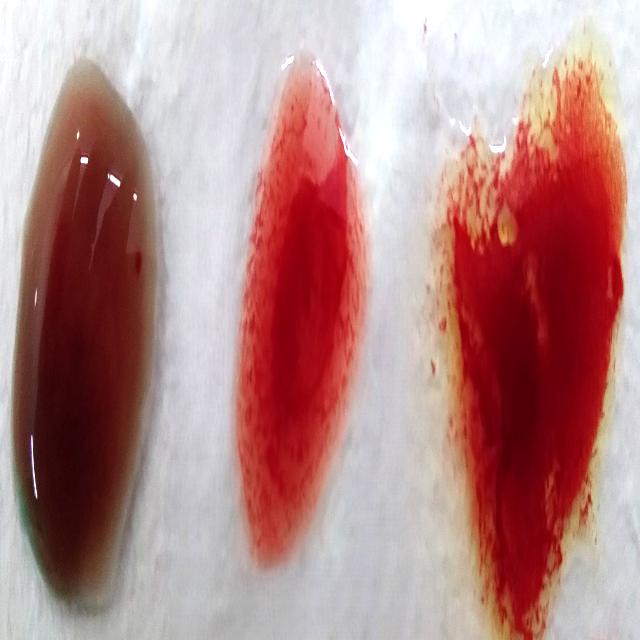B: (450, 50, 623, 640)
D: (240, 52, 356, 578)
